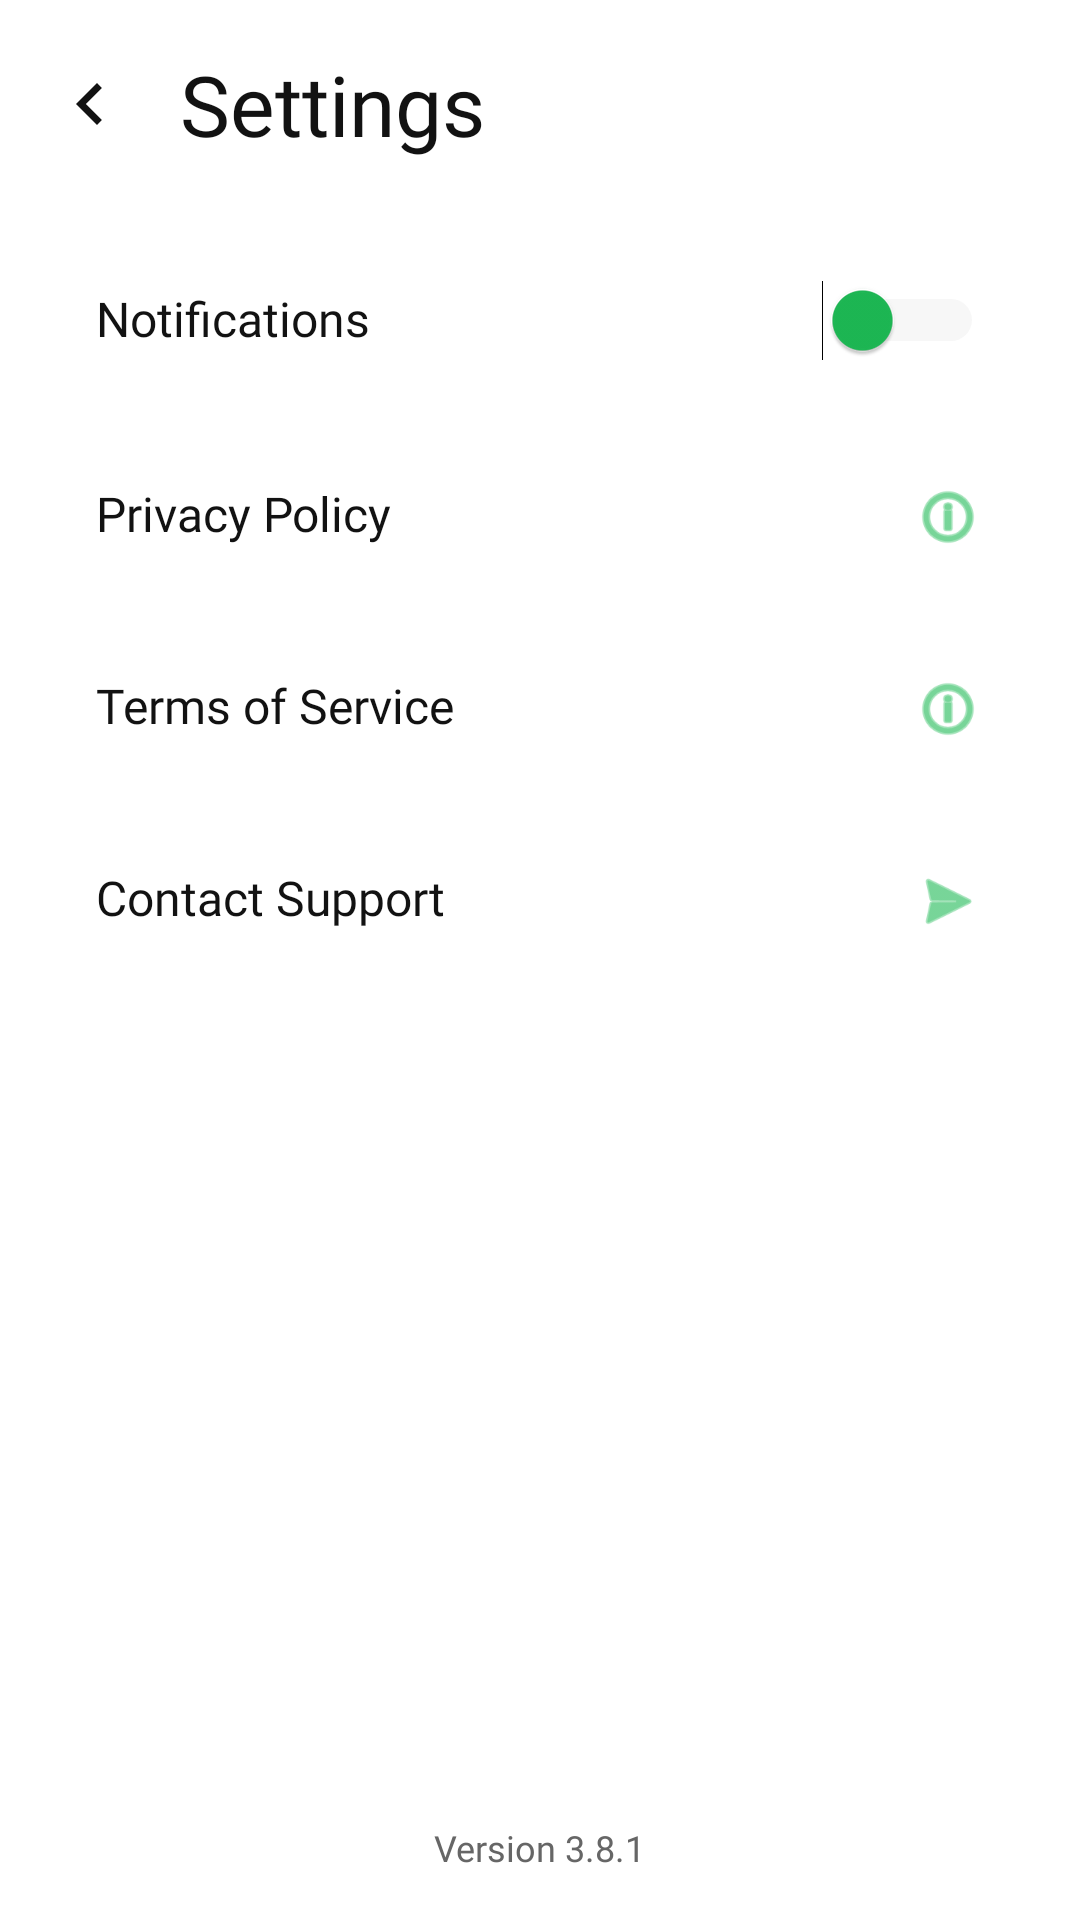

Named icons in this screenshot (1080 × 1920) and their centers, point (x, y):
Back: point (89, 104)
info details: point (948, 517), point (948, 709)
send: point (949, 901)
